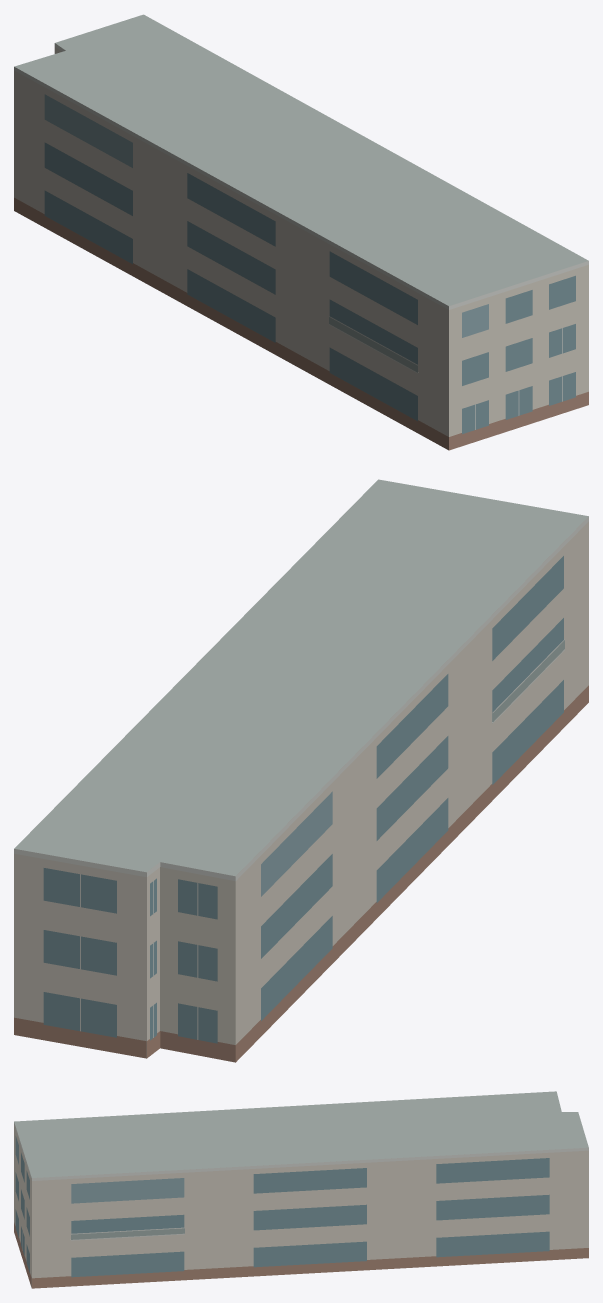
File: survey-upis-32617462.glb
3 views of the same model, one above another, from view 1: azimuth 30°, elevation 25°; view 2: azimuth 150°, elevation 25°; view 3: azimuth 270°, elevation 25° (orthographic). The views are drawn at different scales.
Parts seen in each view (by area): view 1: survey-upis-32617462.tmp; view 2: survey-upis-32617462.tmp; view 3: survey-upis-32617462.tmp.
Boxes of the visible parts, x1,y1,x2,y2 form: survey-upis-32617462.tmp: (14, 14, 588, 450); survey-upis-32617462.tmp: (14, 479, 588, 1062); survey-upis-32617462.tmp: (14, 1091, 588, 1288).
Size of the model in its own units: 15.42 by 9.15 by 43.16.
